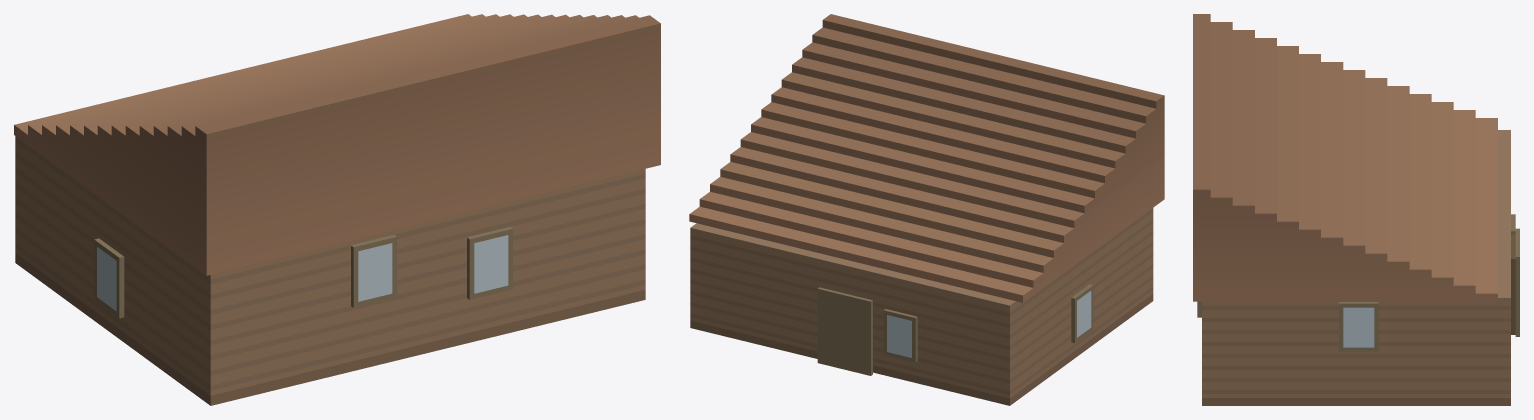
Rendered from planta_curtido_04.glb.
The picture shows the model from 3 angles, left to right: view 1: azimuth 30°, elevation 25°; view 2: azimuth 150°, elevation 25°; view 3: azimuth 270°, elevation 25°; orthographic projection. The views are drawn at different scales.
Parts seen in each view (by area): view 1: planta_curtido_04; view 2: planta_curtido_04; view 3: planta_curtido_04.
Boxes of the visible parts, box(x1,y1,x2,y2) form: planta_curtido_04: box(14, 14, 660, 405); planta_curtido_04: box(689, 14, 1164, 405); planta_curtido_04: box(1193, 14, 1519, 405).
Size of the model in its own units: 9.4 by 5.5 by 7.4.
